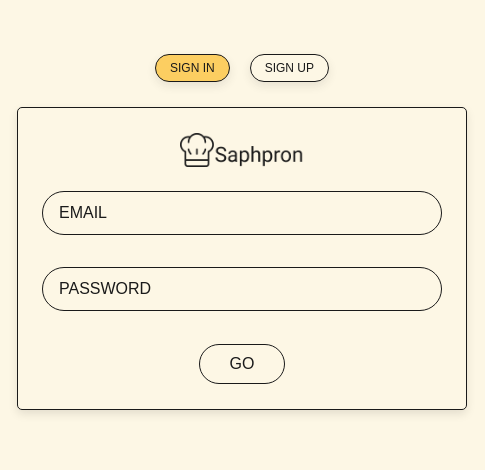
it: handles the Signin Inputs interactions
The image size is (485, 470).
Click the button "SIGN UP".
click(289, 68)  # box 250,54 -> 329,82
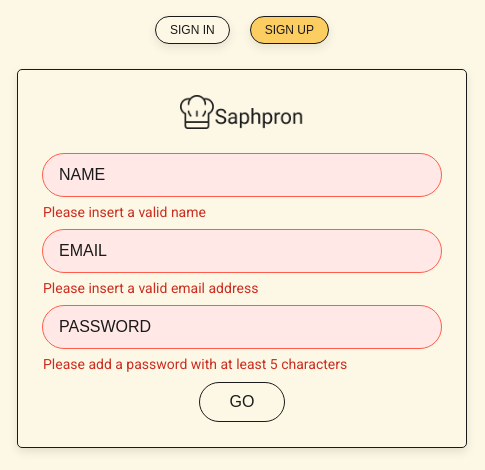
Now the field with placeholder "NAME" is shown, box 43,154 -> 441,196
Now the text "Please insert a valid name" is shown, box 43,204 -> 206,220
Now the text "Please insert a valid email address" is shown, box 43,280 -> 258,296
